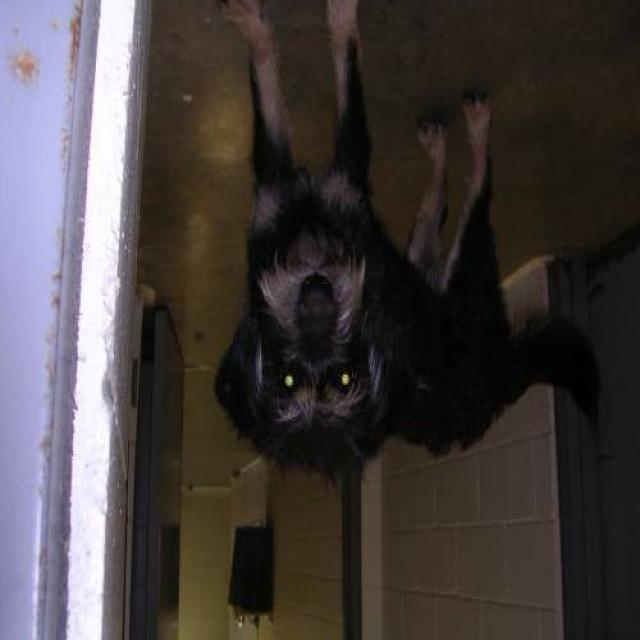dog: (205, 0, 607, 498)
